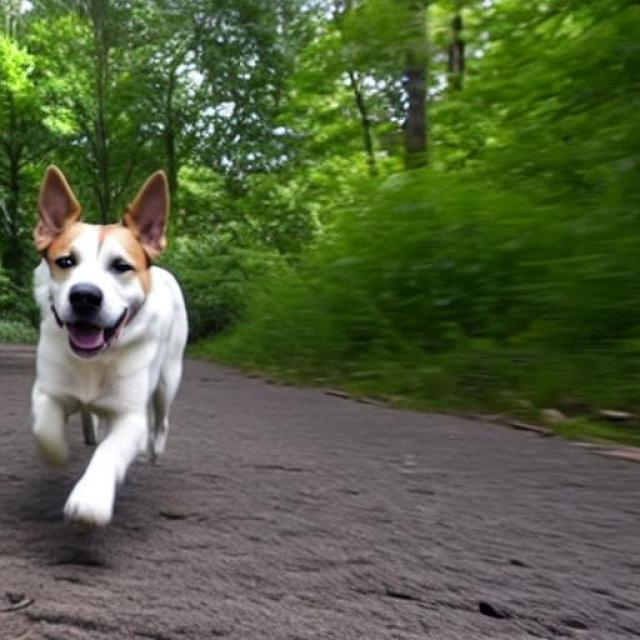Dog: (30, 164, 189, 530)
